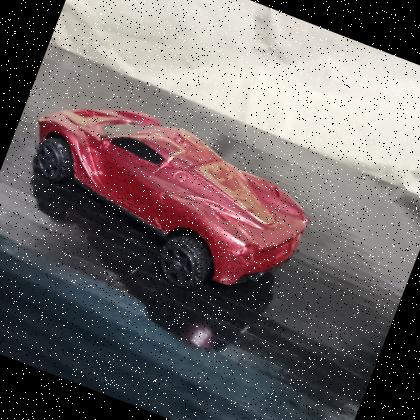Car: (0, 71, 330, 332)
